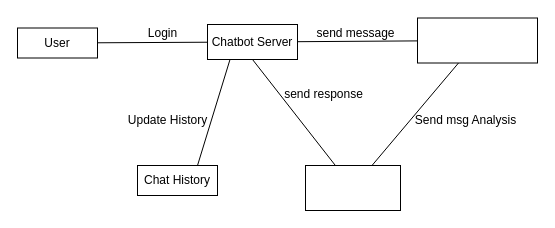
The diagram is 555 pixels wide and 228 high, and some of its shapes have lost their labels. The shapes that lost their labels are listed below. From the top down, each one's centre as x and y in pixels, then its label:
(x=477, y=40): Sentimental Analyzer & API
(x=352, y=187): Response Generator
